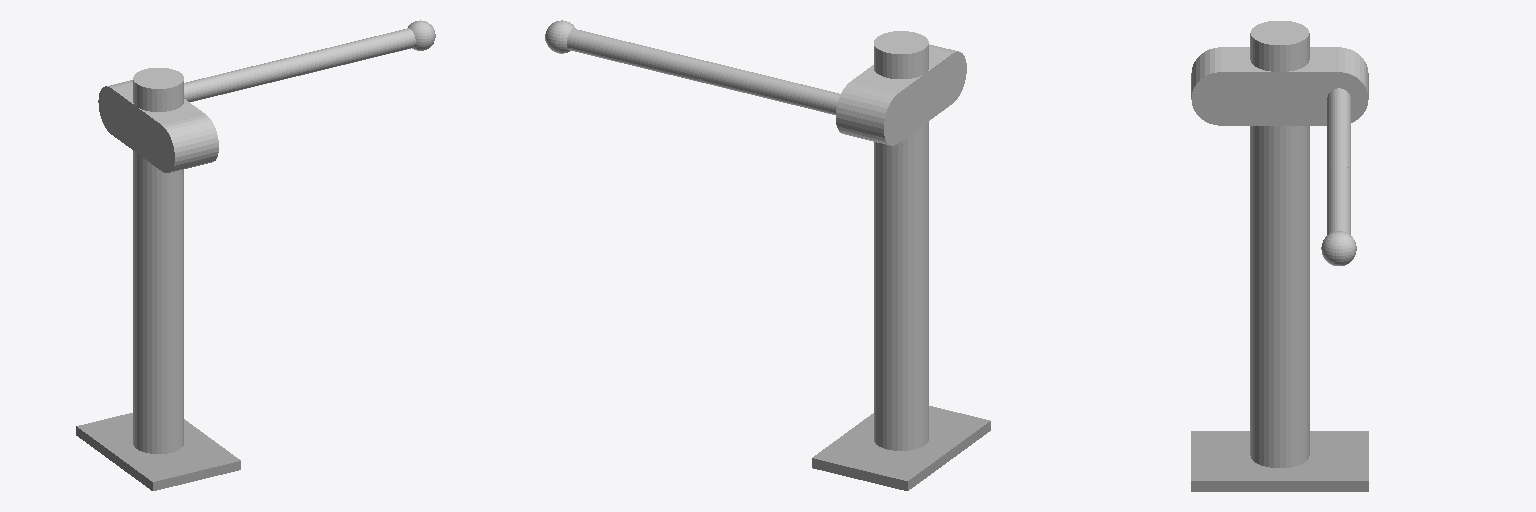
URDF robot description (LISM_Arm):
<?xml version="1.0" ?>
<robot name="LISM_Arm">

    <!-- Basic colors -->
    <material name="black">
        <color rgba="0.0 0.0 0.0 1.0"/>
    </material>
    <material name="greyblack">
        <color rgba="0.8 0.8 0.8 1"/>
    </material>
    <material name="blue">
        <color rgba="0.0 0.0 0.8 1.0"/>
    </material>
    <material name="green">
        <color rgba="0.0 0.8 0.0 1.0"/>
    </material>
    <material name="grey">
        <color rgba="0.3 0.3 0.3 1"/>
    </material>
    <material name="silver">
        <color rgba="0.8 0.8 0.8 1"/>
    </material>
    <material name="red">
        <color rgba="0.8 0.0 0.0 1.0"/>
    </material>
    <material name="white">
        <color rgba="1.0 1.0 1.0 1.0"/>
    </material>

    <material name="anymal_material">
        <color rgba="0.7 0.7 0.7 1.0"/>
    </material>


    <!-- Material for the visual primitives -->
    <material name="anymal_material">
        <color rgba="0.7 0.7 0.7 1.0"/>
    </material>

<!---=============================the base of fixing arm======================-->
    <!--base of fixing arm-->
    <link name="world"/>

    <joint name="worldTolink1" type="fixed">
        <parent link="world"/>
        <child link="base_plate"/>
        <origin xyz="0 0 0"/>
    </joint>

    <link name="base_plate">
        <visual>
            <origin rpy="0.0 0.0 0.0" xyz="0 0 0"/>
            <geometry>
                <box size="0.2 0.3 0.02"/>
            </geometry>
            <material name="anymal_material"/>
        </visual>
        
    </link>

    <joint name="base_fix" type="fixed">
        <axis xyz="1 0 0"/>
        <origin rpy="0 0 0" xyz="0 0 0"/>
        <parent link="base_plate"/>
        <child link="fix_pillar"/>
    </joint>

    <link name="fix_pillar">
        <visual>
            <origin rpy="0.0 0.0 0.0" xyz="0 0 0.4"/>
            <geometry>
                <cylinder length="0.8" radius="0.05"/>
            </geometry>
            <material name="greyblack"/>
        </visual>
    </link>

    <joint name="fix_plate" type="fixed">
        <axis xyz="1 0 0"/>
        <origin rpy="0 0 0" xyz="0 0 0"/>
        <parent link="fix_pillar"/>
        <child link="arm_plate"/>
    </joint>

    <link name="arm_plate">
        <visual>
            <origin rpy="0.0 0.0 0.0" xyz="0 0 0.7"/>
            <geometry>
                <box size="0.1 0.2 0.1"/>
            </geometry>
            <material name="greyblack"/>
        </visual>
    </link>

    <joint name="plate_cir_r" type="fixed">
        <axis xyz="1 0 0"/>
        <origin rpy="0 0 0" xyz="0 0 0"/>
        <parent link="arm_plate"/>
        <child link="cir_plate_r"/>
    </joint>

    <link name="cir_plate_r">
        <visual>
            <origin rpy="0.0 1.57 0.0" xyz="0 0.1 0.7"/>
            <geometry>
                <cylinder length="0.1" radius="0.05"/>
            </geometry>
            <material name="greyblack"/>
        </visual>
    </link>

    <joint name="plate_cir_l" type="fixed">
        <axis xyz="1 0 0"/>
        <origin rpy="0 0 0" xyz="0 0 0"/>
        <parent link="arm_plate"/>
        <child link="cir_plate_l"/>
    </joint>

    <link name="cir_plate_l">
        <visual>
            <origin rpy="0.0 1.57 0.0" xyz="0 -0.1 0.7"/>
            <geometry>
                <cylinder length="0.1" radius="0.05"/>
            </geometry>
            <material name="silver"/>
        </visual>
    </link>

    <joint name="plate_arm_r" type="revolute">
        <axis xyz="0 0 1"/>
        <origin rpy="0 0 0" xyz="0.05 0.1 0.7"/>
        <parent link="cir_plate_r"/>
        <child link="upper_r"/>
        <limit effort="180" lower="0.0" upper="3.14" velocity="400"/>
        <!-- <dynamics damping="0.01" rotor_inertia="0.003708"/> -->
    </joint>

    <!-- <joint name="plate_arm_l" type="continuous">
        <axis xyz="1 0 0"/>
        <origin rpy="0 0 0" xyz="0 0 0"/>
        <parent link="cir_plate_l"/>
        <child link="abad_l"/>
    </joint> -->

<!---============================= Right Arm ======================-->
       <!--upper link-->
    <link name="upper_r">
        <visual>
            <origin rpy="0 1.57 0" xyz="0.15 0.0 0"/>
            <geometry>
                <cylinder length="0.3" radius="0.02"/>
            </geometry>
            <material name="greyblack"/>
        </visual>
        <inertial>
            <mass value="1.8"/>
            <origin rpy="0.0 0.0 0.0" xyz="0.15 0.0 0.0"/>
            <inertia ixx="0.00036" ixy="0.0" ixz="0.0"
                     iyy="0.0135" iyz="0.0" izz="0.0135"/>
        </inertial>
         <!-- <collision>
            <origin rpy="1.57 0.0 0.0" xyz="0.0 0.0 0"/>
            <geometry>
                <cylinder length="0.035" radius="0.05"/>
            </geometry>
        </collision>
        <collision>
            <origin rpy="0.0 0.0 0.0" xyz="0.0 0.0 -0.12"/>
            <geometry>
                <box size="0.05 0.04 0.15"/>
            </geometry>
        </collision> -->
    </link>

    <!--upper to lower joint-->
    <joint name="upper_lower_r" type="revolute">
        <axis xyz="0 0 1"/>
        <origin rpy="0 0 0" xyz="0.3 0.0 0.0"/>
        <parent link="upper_r"/>
        <child link="lower_r"/>
        <limit effort="180" lower="-3.14" upper="0" velocity="400"/>
        <!-- <dynamics damping="0.01" rotor_inertia="0.008966"/>
         -->
    </joint>

    <!--lower link-->
    <link name="lower_r">
        <visual>
            <!-- <origin rpy="0.0 0.0 3.14" xyz="-0.025 0.032 0"/> -->
            <origin rpy="0 1.57 0" xyz="0.15 0.0 0"/>
            <geometry>
                <cylinder length="0.3" radius="0.02"/>
            </geometry>
            <material name="greyblack"/>
        </visual>
        <inertial>
            <mass value="1.0"/>
            <origin rpy="0.0 0.0 0.0" xyz="0.15 0.0 0.0"/>
            <inertia ixx="0.00036" ixy="0.0" ixz="0.0"
                     iyy="0.0135" iyz="0.0" izz="0.0135"/>
        </inertial>
        <!-- <collision>
            <origin rpy="0.0 0.0 0.0" xyz="0 0.0 -0.1"/>
            <geometry>
                <box size="0.04 0.03 0.18"/>
            </geometry>
        </collision> -->
    </link>

    <joint name="toe_fr_joint" type="fixed">
        <axis xyz="1 0 0"/>
        <parent link="lower_r"/>
        <child link="toe_fr"/>
        <origin xyz="0.3 0.0 0"/>
        <dynamics damping="0.0" friction="0.0"/>
    </joint>

    <link name="toe_fr">
        <contact>
            <friction_anchor/>
            <stiffness value="30000.0"/>
            <damping value="1000.0"/>
            <spinning_friction value="0.3"/>
            <lateral_friction value="3.0"/>
        </contact>
        <collision>
            <origin rpy="0 0 0" xyz="0 0 0"/>
            <geometry>
                <sphere radius="0.03"/>
            </geometry>
            <material name="">
                <contact name="rub"/>
            </material>
        </collision>
        <inertial>
            <mass value="0.01"/>
            <inertia ixx="0.0000036" ixy="0" ixz="0" iyy="0.0000036" iyz="0" izz="0.0000036"/>
        </inertial>
        <visual>
            <origin rpy="0 0 0" xyz="0 0 0"/>
            <geometry>
                <sphere radius="0.03"/>
            </geometry>
            <material name="greyblack"/>
        </visual>
    </link>

</robot>

--- What the picture shows (computed from the rendered views, not written in the file) ---
Views: 3 orthographic renders of the robot side by side, from view 1: azimuth 30°, elevation 25°; view 2: azimuth 150°, elevation 25°; view 3: azimuth 270°, elevation 25°.
Robot: LISM_Arm — 9 links, 8 joints (2 revolute, 6 fixed); root link world; default pose: every joint at zero.
Visible links, largest first — view 1: fix_pillar, base_plate, cir_plate_l, arm_plate, lower_r, upper_r, cir_plate_r, toe_fr; view 2: fix_pillar, base_plate, cir_plate_r, arm_plate, upper_r, lower_r, cir_plate_l, toe_fr; view 3: fix_pillar, base_plate, arm_plate, cir_plate_l, cir_plate_r, upper_r, lower_r, toe_fr.
Link boxes in pixels (x1,y1,x2,y2): fix_pillar: [133, 68, 183, 453]; base_plate: [76, 413, 240, 490]; cir_plate_l: [149, 115, 218, 172]; arm_plate: [111, 83, 205, 170]; lower_r: [287, 28, 415, 77]; upper_r: [184, 58, 292, 101]; cir_plate_r: [98, 80, 132, 133]; toe_fr: [408, 20, 435, 50]; fix_pillar: [874, 31, 928, 450]; base_plate: [812, 406, 990, 490]; cir_plate_r: [836, 82, 910, 145]; arm_plate: [851, 48, 952, 142]; upper_r: [700, 61, 840, 114]; lower_r: [567, 29, 706, 82]; cir_plate_l: [929, 44, 966, 102]; toe_fr: [545, 20, 575, 53]; fix_pillar: [1250, 21, 1309, 467]; base_plate: [1191, 431, 1368, 491]; arm_plate: [1221, 47, 1338, 125]; cir_plate_l: [1191, 47, 1249, 125]; cir_plate_r: [1310, 47, 1368, 122]; upper_r: [1327, 88, 1350, 171]; lower_r: [1327, 163, 1350, 234]; toe_fr: [1321, 231, 1356, 265].
Size in the robot's own frame: 0.78 by 0.3 by 0.81 metres.
Geometry: primitives only (box / cylinder / sphere), no mesh files.
